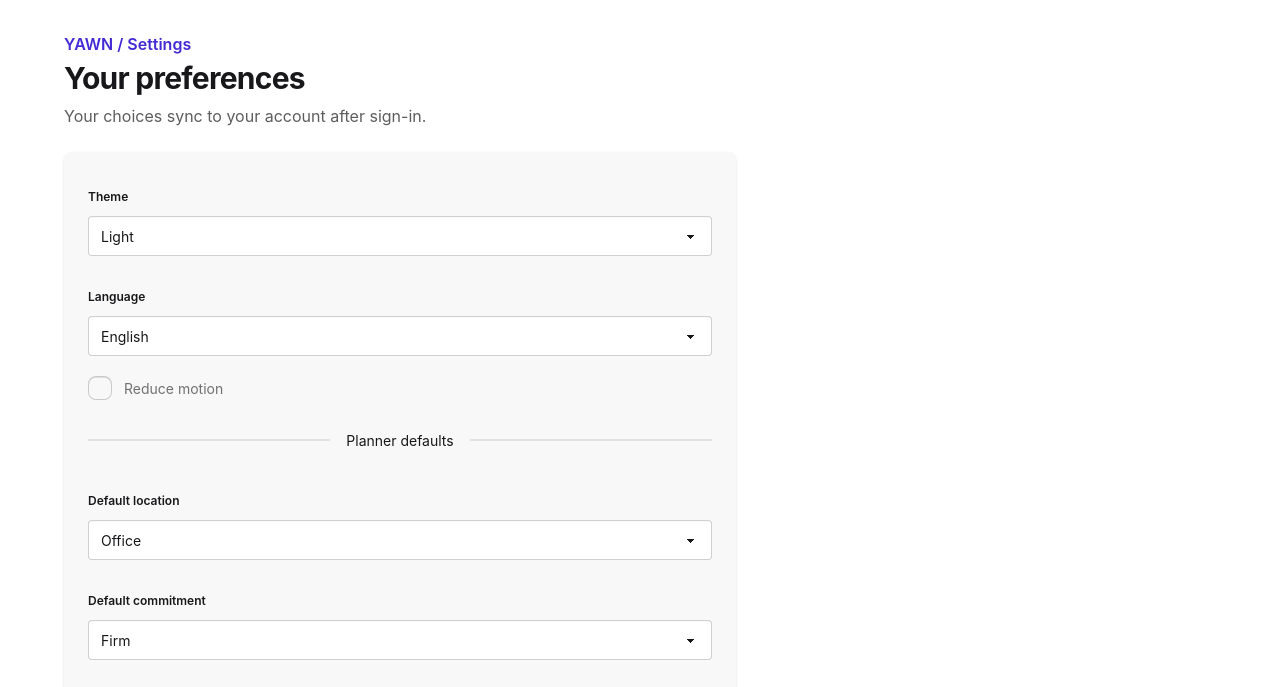
Scenario: Phase 3 page contracts › renders settings context and persists changed theme preferences
Select "Dark" in the dropdown labelled "Theme" at (400, 236), box 88,216 -> 712,256
(page scrolled)
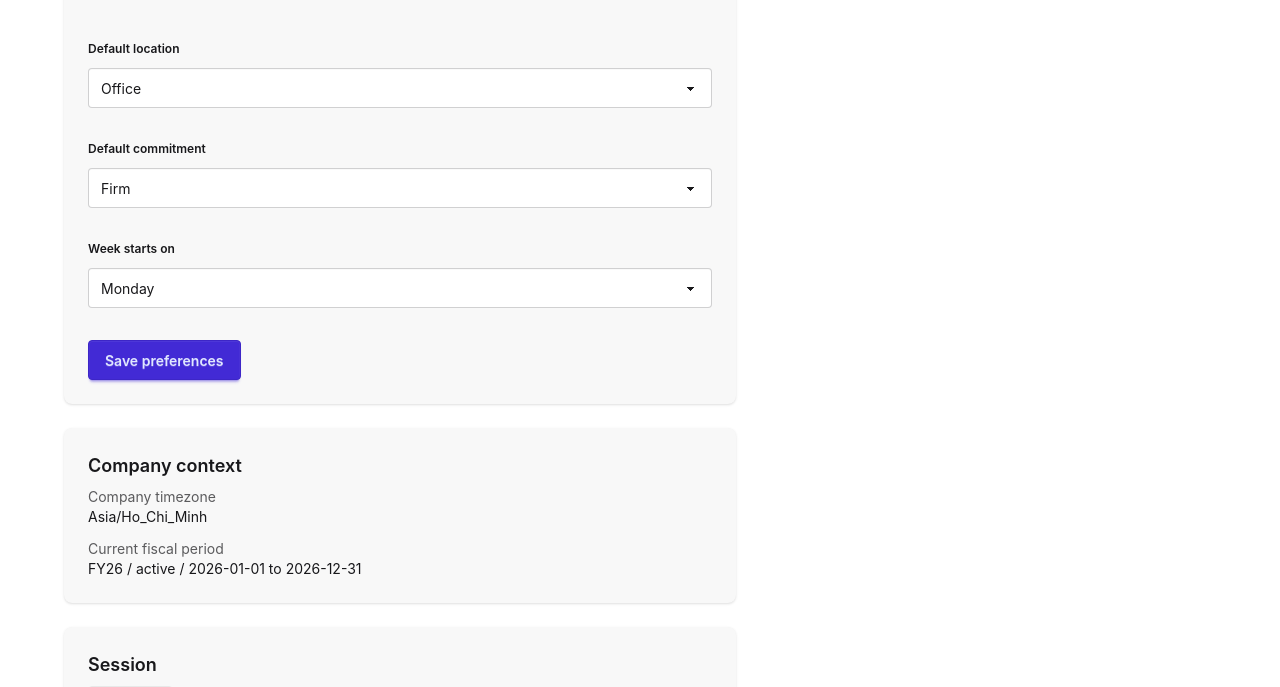
Click the button "Save preferences" at (164, 360), box 88,340 -> 240,380
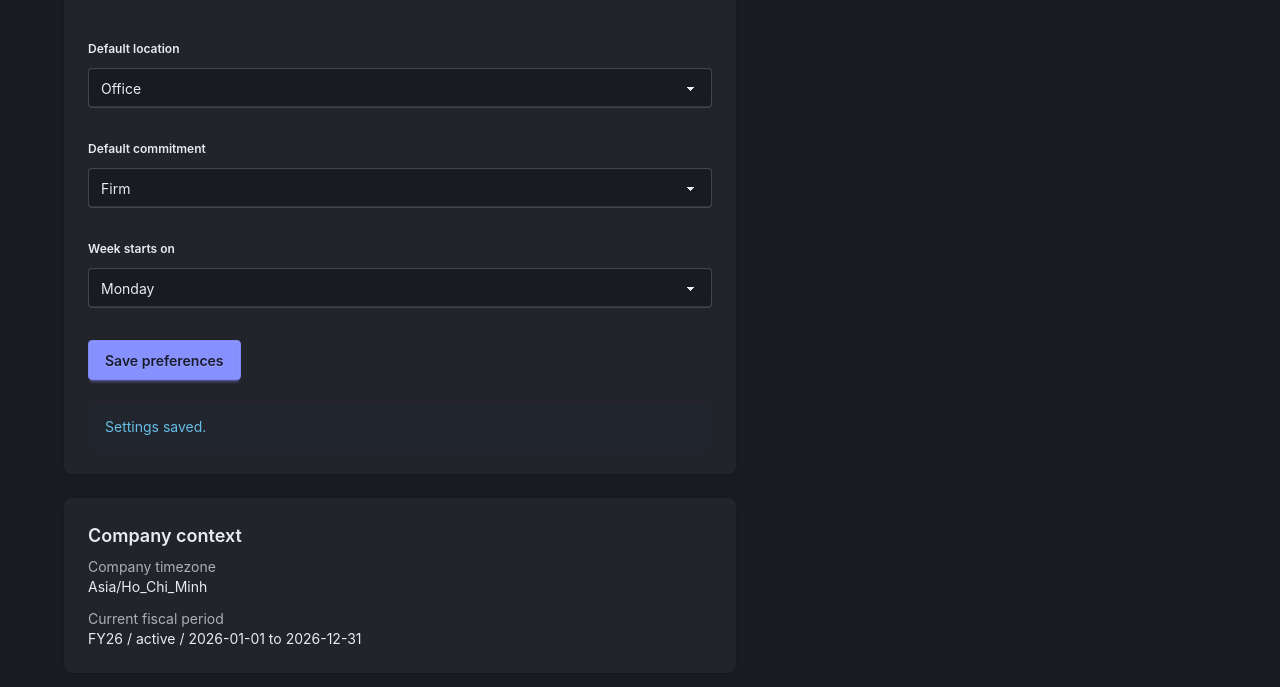
Result: the message reads "Settings saved." at 105,418 -> 206,435
